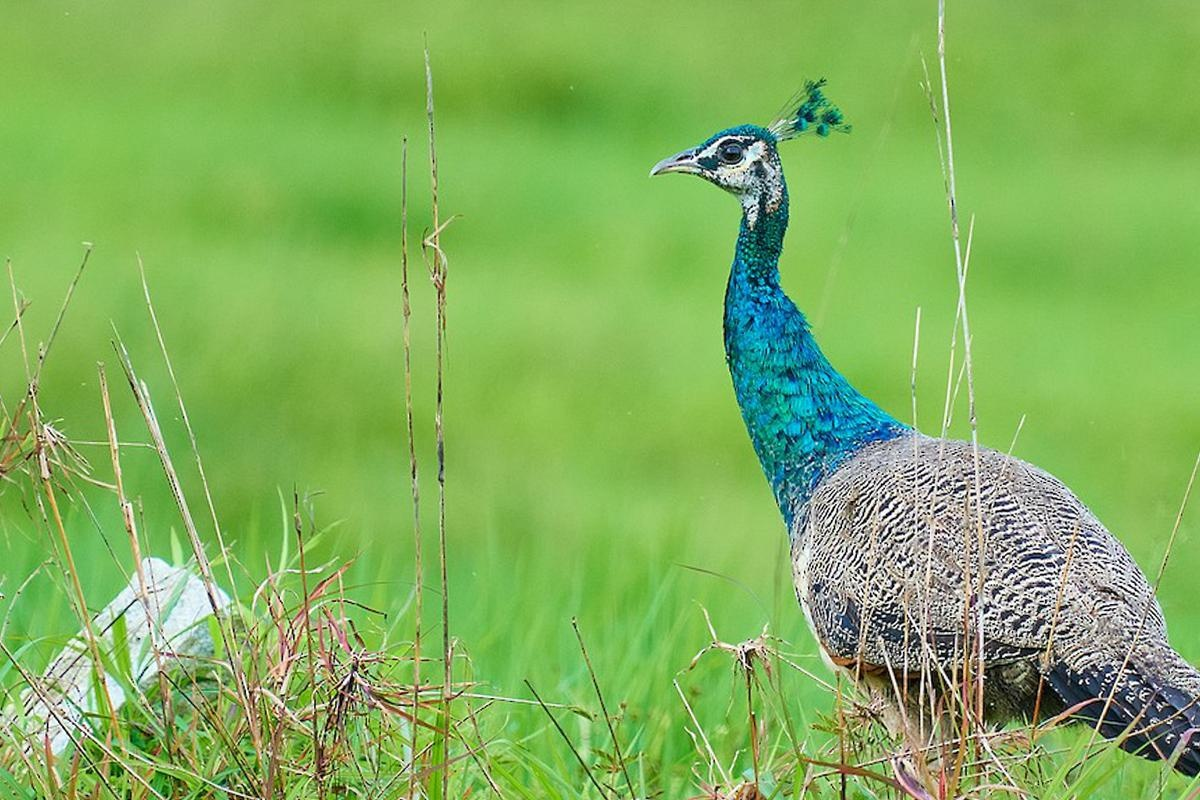peacock: (686, 86, 1200, 782)
